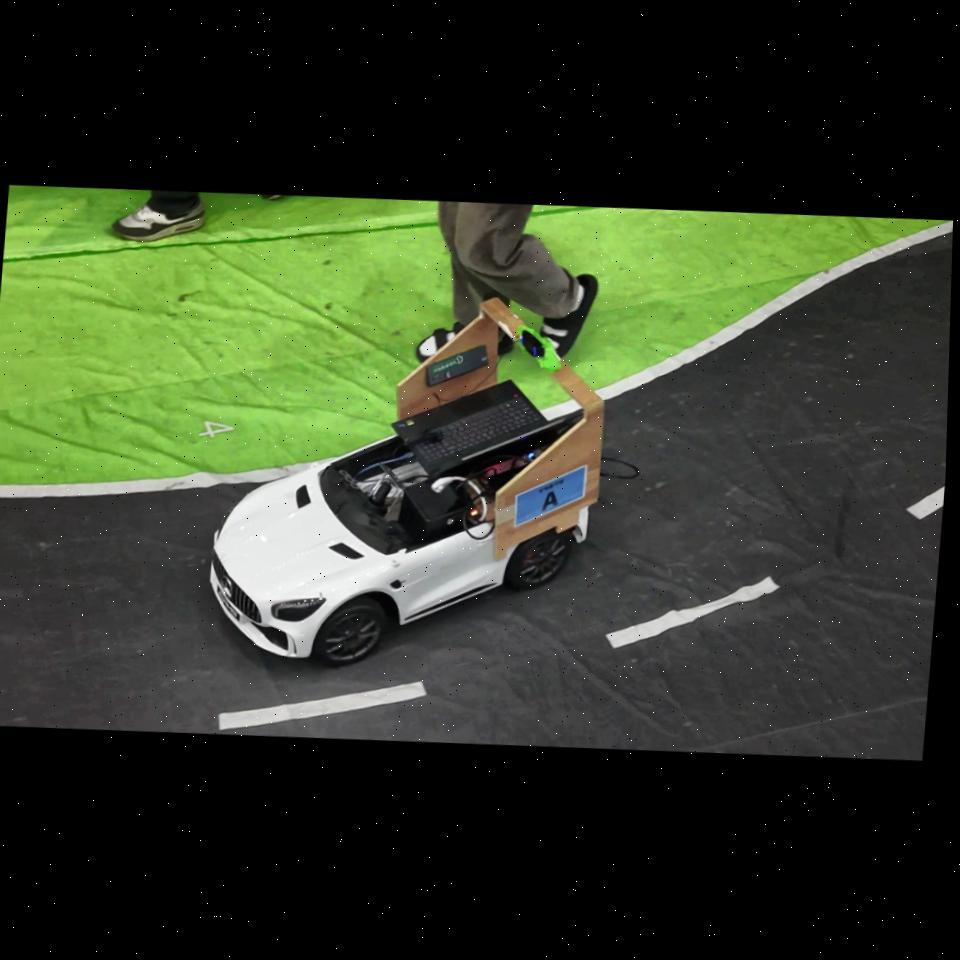broken_line: (605, 576, 780, 649), (219, 681, 427, 730), (906, 486, 944, 520)
